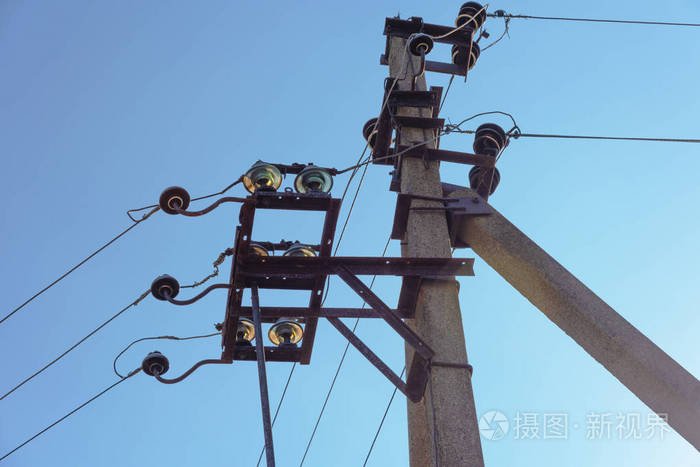insulator: (239, 163, 283, 194), (293, 164, 335, 196), (262, 320, 305, 344), (231, 317, 257, 346), (282, 243, 324, 260)
